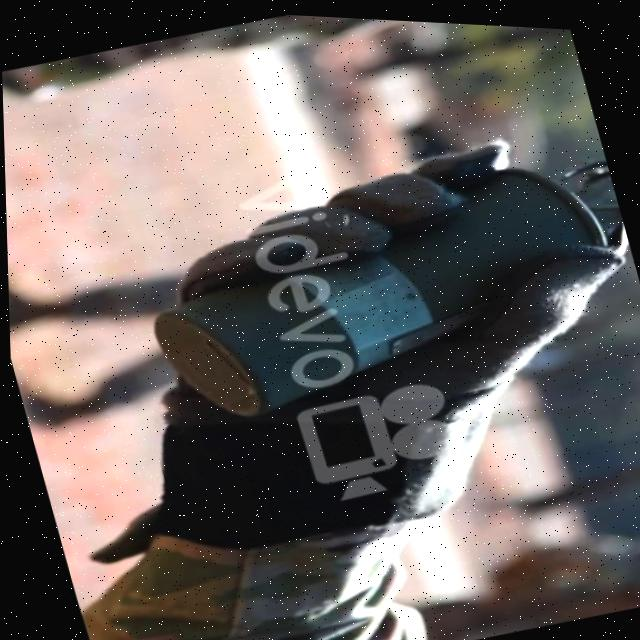grenade: (115, 101, 640, 454)
